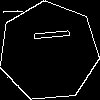I: (24, 26, 70, 44)
